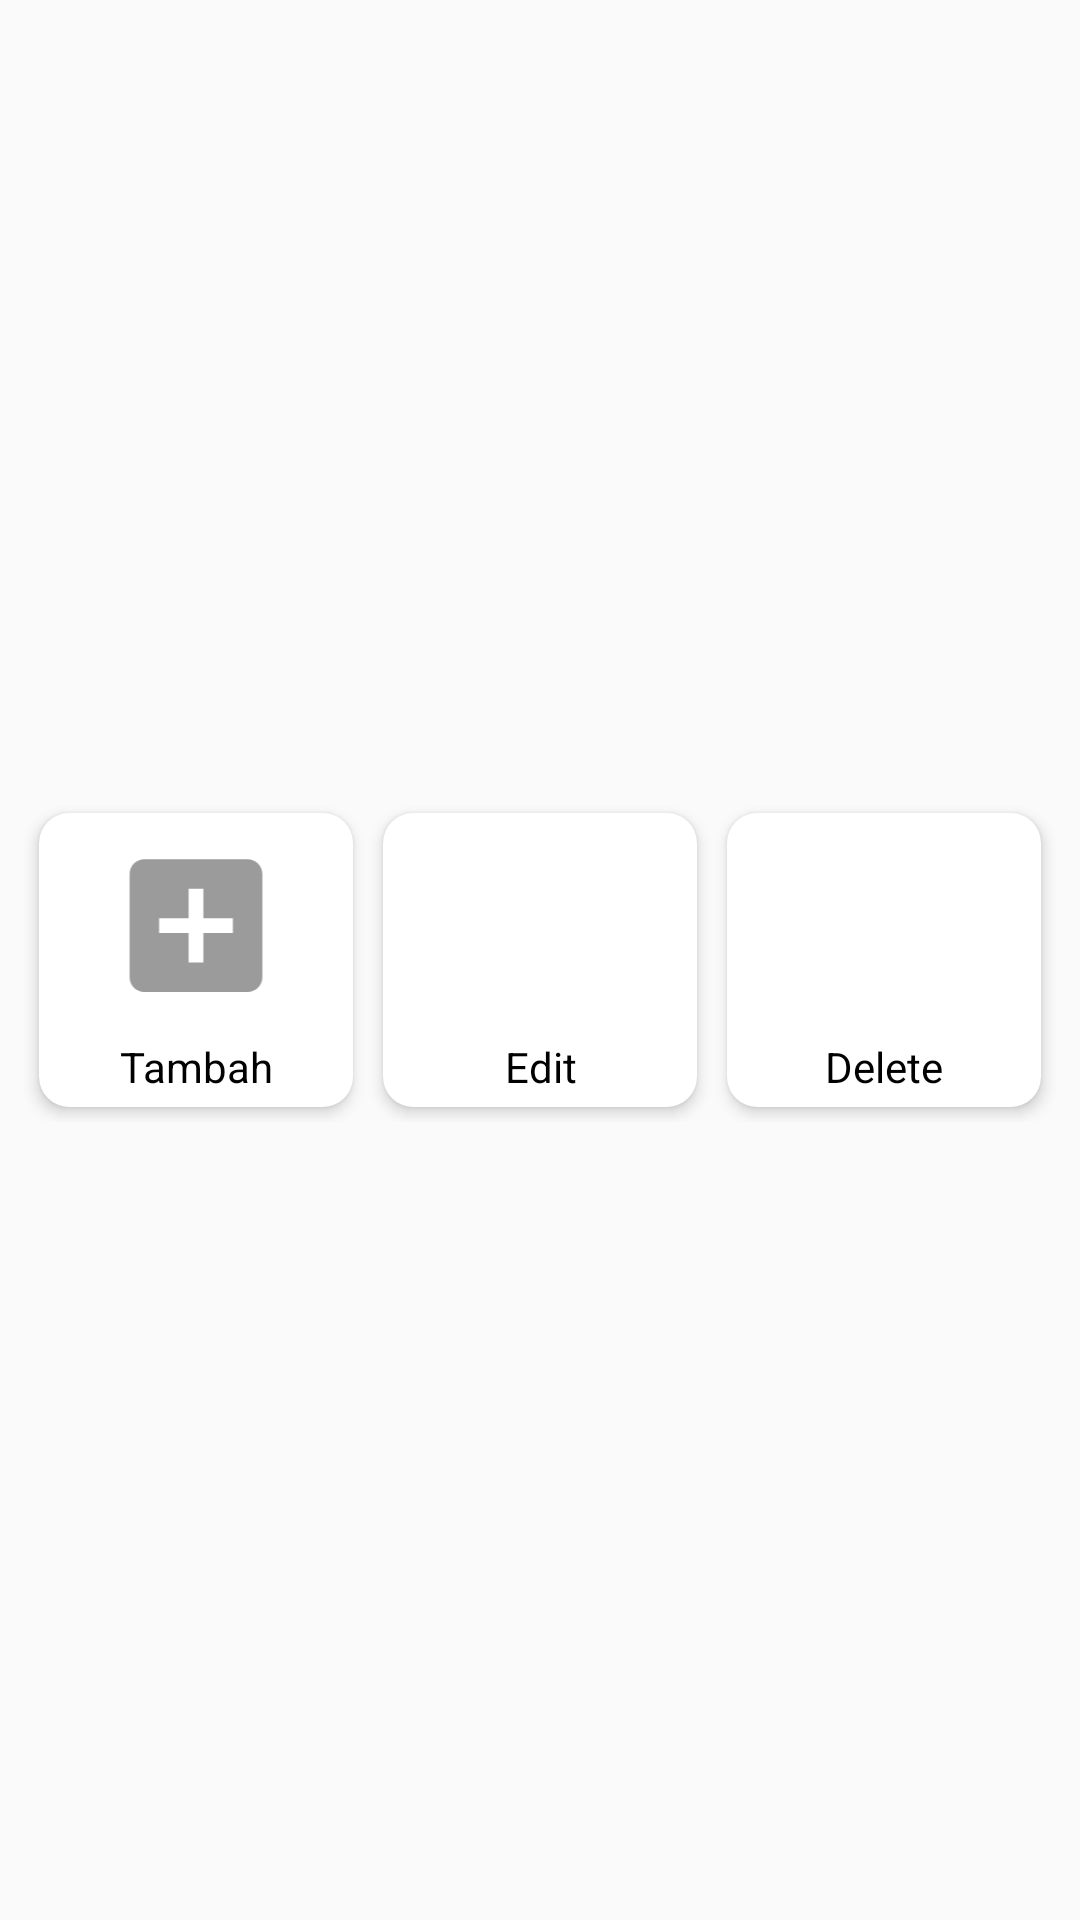

Icon bounding boxes for this 1080px x 1920px phone screenshot, format (x1, y1, x2, y2):
add box: (129, 859, 263, 992)
